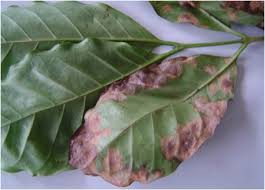mal de hilachas: (73, 46, 240, 184)
